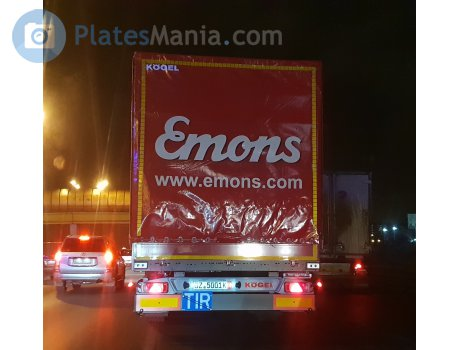License Plates: (192, 280, 229, 288)
